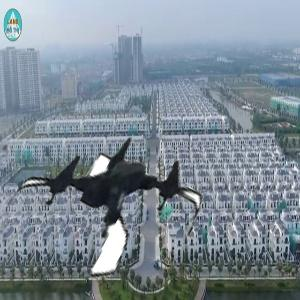drone: (24, 113, 200, 289)
